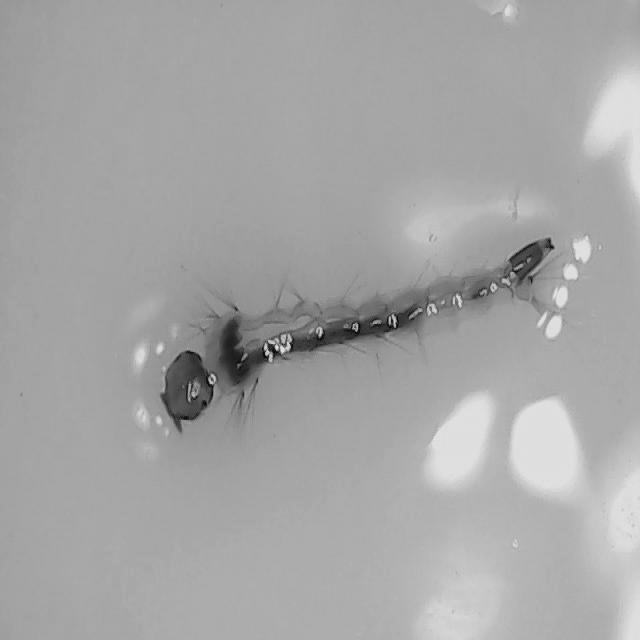larvas: (160, 238, 557, 430)
